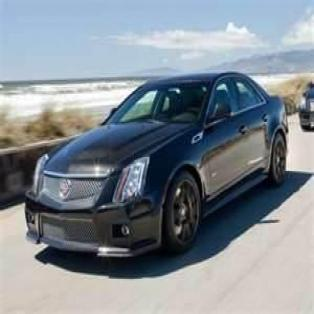Auto: (24, 70, 288, 268)
